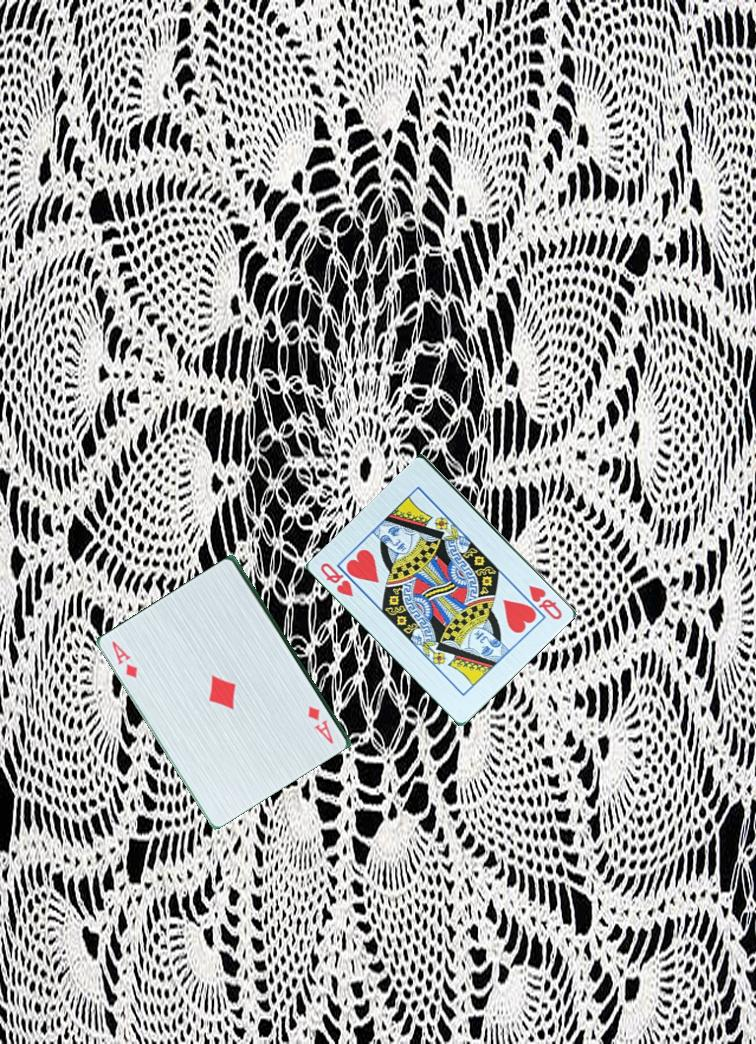ad: (304, 694, 338, 751), (107, 637, 140, 681)
qh: (525, 581, 566, 623), (317, 559, 357, 600)
